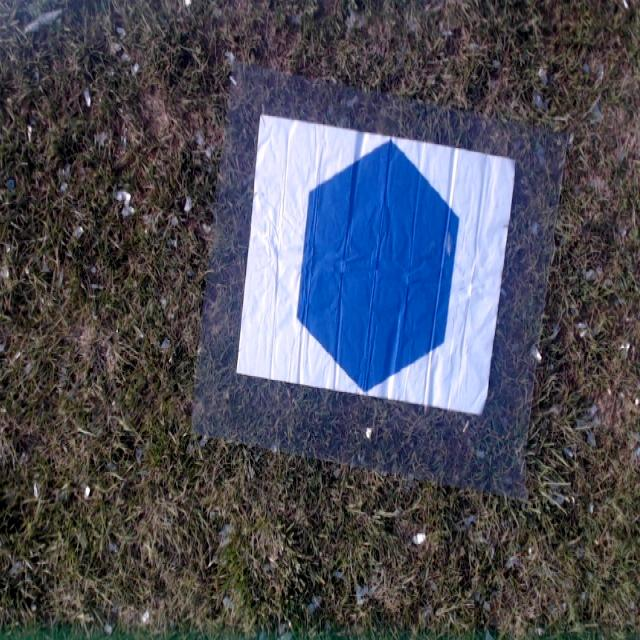blue_hexagon: (298, 137, 460, 394)
